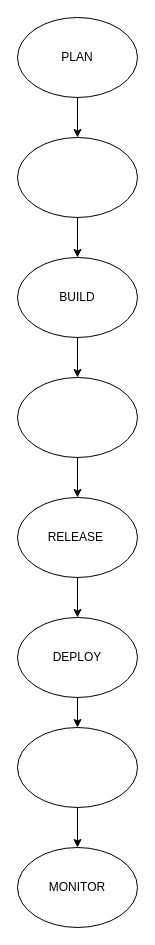
Image size: 155x945. Some labels were removed from this diagram. Each missing label, with the box of its shape:
DEVELOP: (16, 136, 138, 218)
MODERATE: (16, 726, 138, 808)
TEST: (16, 376, 138, 458)
